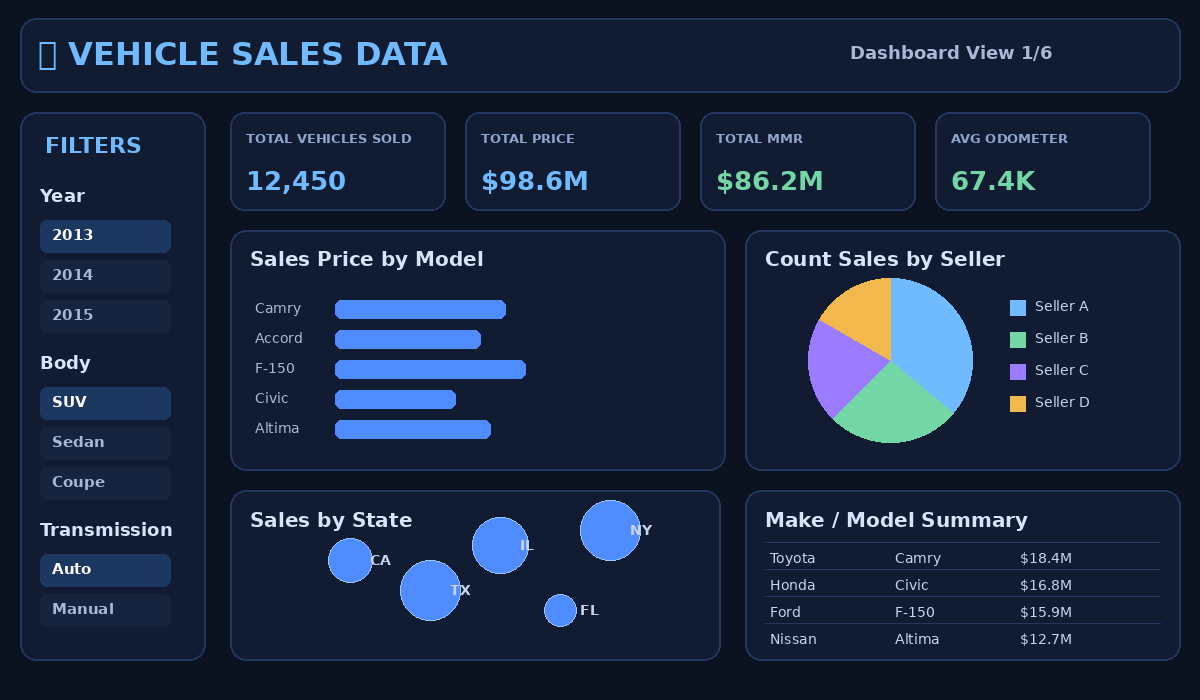

The page's visual inventory and layout, read from the dashboard file:
{"tool":"powerbi","page":{"name":"Page 1","canvas":[1280,720],"ordinal":0},"visuals":[{"type":"textbox","box":[9.6,16.5,1270.7,71.4],"z":0},{"type":"cardVisual","fields":{"Data":["Table1.total sales"]},"box":[1059.4,87.8,220.9,149.6],"z":1000},{"type":"cardVisual","fields":{"Data":["Table1.total price"]},"box":[1059.4,237.4,220.9,149.6],"z":2000},{"type":"cardVisual","fields":{"Data":["Table1.total mmr"]},"box":[1059.4,400.7,220.9,149.6],"z":3000},{"type":"cardVisual","fields":{"Data":["Table1.avodmeter"]},"box":[1059.4,568.1,220.9,149.6],"z":4000},{"type":"hundredPercentStackedBarChart","title":"salesprice by modal","fields":{"Category":["Table1.make"],"Y":["Sum(Table1.sellingprice)"],"Series":["Table1.year"]},"box":[584.6,102.9,455.6,284],"z":5000},{"type":"pieChart","title":"count sales by seller","fields":{"Y":["Table1.total sales"],"Category":["Table1.seller"]},"box":[584.6,413,455.6,286.8],"z":6000},{"type":"map","fields":{"Category":["Table1.state"]},"box":[266.2,408.9,299.1,293.7],"z":7000},{"type":"tableEx","fields":{"Values":["Table1.make","Table1.total mmr","Table1.model","Table1.transmission"]},"box":[192.1,102.9,382.8,284],"z":8000},{"type":"slicer","title":"TransmissionBase","fields":{"Values":["Table1.transmission"]},"box":[19.2,547.5,233.3,146.8],"z":9000},{"type":"slicer","title":"YearBase","fields":{"Values":["Table1.year"]},"box":[9.6,102.9,163.3,181.1],"z":10000},{"type":"slicer","title":"BodyBase","fields":{"Values":["Table1.body"]},"box":[9.6,301.9,163.3,219.6],"z":11000}]}

Visuals, with their boxes on the page's 1280x720 design canvas (x1, y1, x2, y2). These are canvas units, not pixel positions in the 1200x700 screenshot, which may show the page scaled, cropped or inside an application window:
textbox: l=10, t=16, r=1280, b=88
cardVisual - Table1.total sales: l=1059, t=88, r=1280, b=237
cardVisual - Table1.total price: l=1059, t=237, r=1280, b=387
cardVisual - Table1.total mmr: l=1059, t=401, r=1280, b=550
cardVisual - Table1.avodmeter: l=1059, t=568, r=1280, b=718
"salesprice by modal" hundredPercentStackedBarChart: l=585, t=103, r=1040, b=387
"count sales by seller" pieChart: l=585, t=413, r=1040, b=700
map - Table1.state: l=266, t=409, r=565, b=703
tableEx - Table1.make x Table1.total mmr: l=192, t=103, r=575, b=387
"TransmissionBase" slicer: l=19, t=548, r=252, b=694
"YearBase" slicer: l=10, t=103, r=173, b=284
"BodyBase" slicer: l=10, t=302, r=173, b=522
